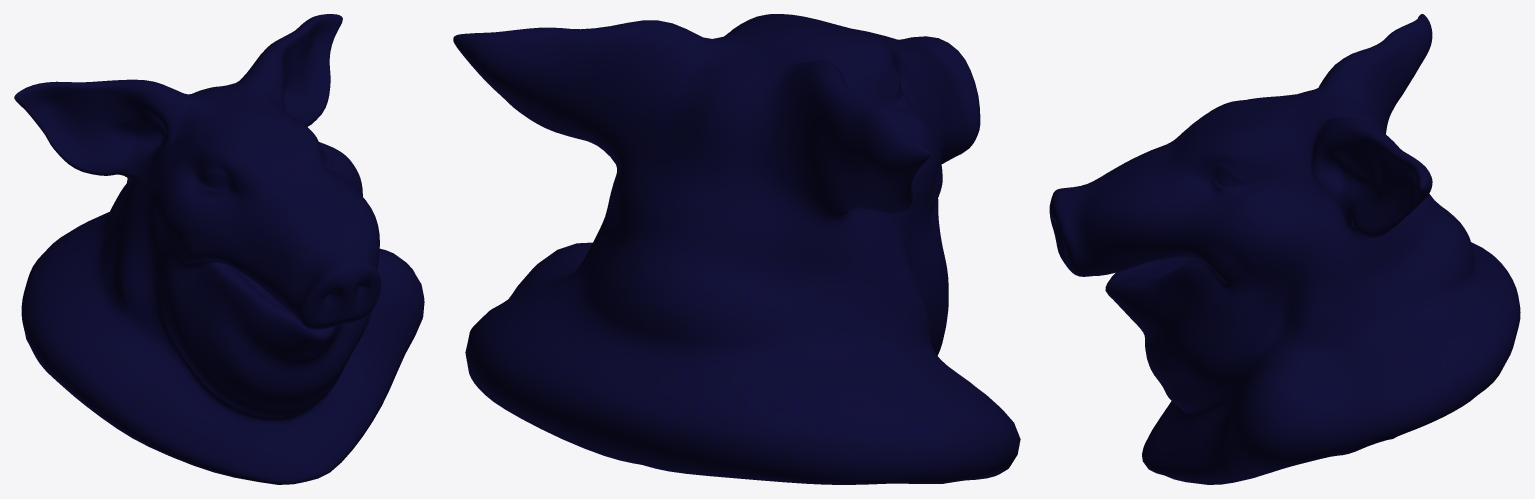
File: peagh-drap.glb
The picture shows the model from 3 angles, left to right: view 1: azimuth 30°, elevation 25°; view 2: azimuth 150°, elevation 25°; view 3: azimuth 270°, elevation 25°; orthographic projection. The views are drawn at different scales.
Parts seen in each view (by area): view 1: pigHead; view 2: pigHead; view 3: pigHead.
Boxes of the visible parts, x1,y1,x2,y2 form: pigHead: (14, 14, 424, 484); pigHead: (453, 14, 1020, 484); pigHead: (1049, 14, 1520, 484).
Size of the model in its own units: 2.02 by 1.89 by 2.18.
1 material, 1 textured.
